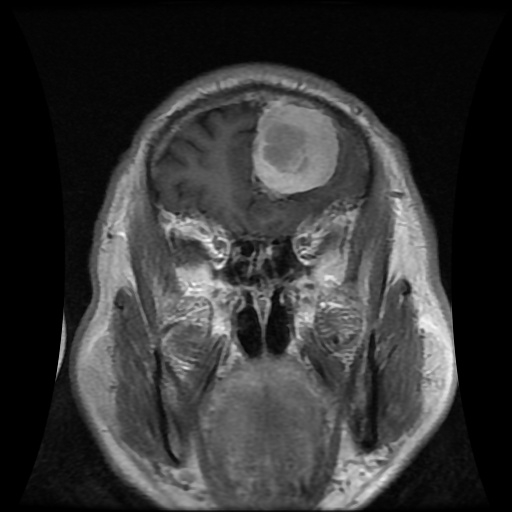meningioma: (251, 99, 339, 194)
